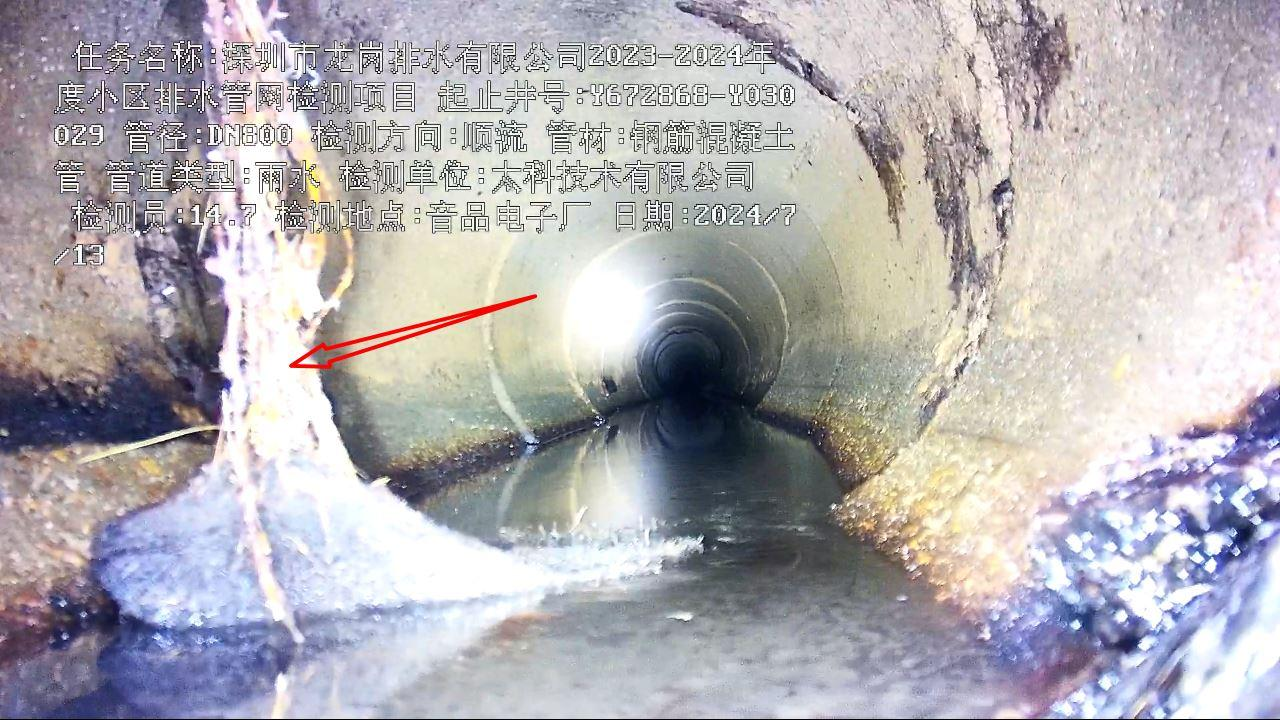SG: (190, 0, 356, 641)
